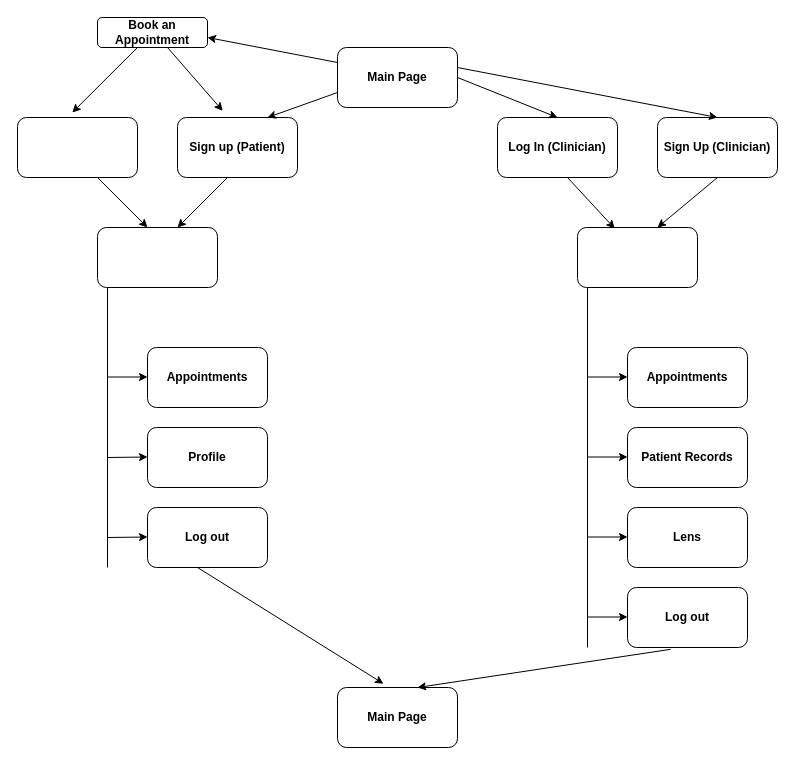
The diagram is 795 pixels wide and 765 high, and some of its shapes have lost their labels. The shapes that lost their labels are listed below. From the top down, each one's centre as x and y in pixels, then its label:
At (77,147): "Log In (Patient)".
At (157,257): "Dashboard (Patient)".
At (637,257): "Dashboard (Clinician)".
